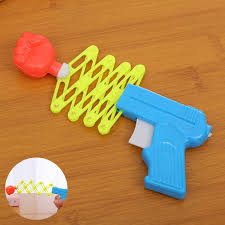Arma Falsa: (12, 31, 215, 199)
